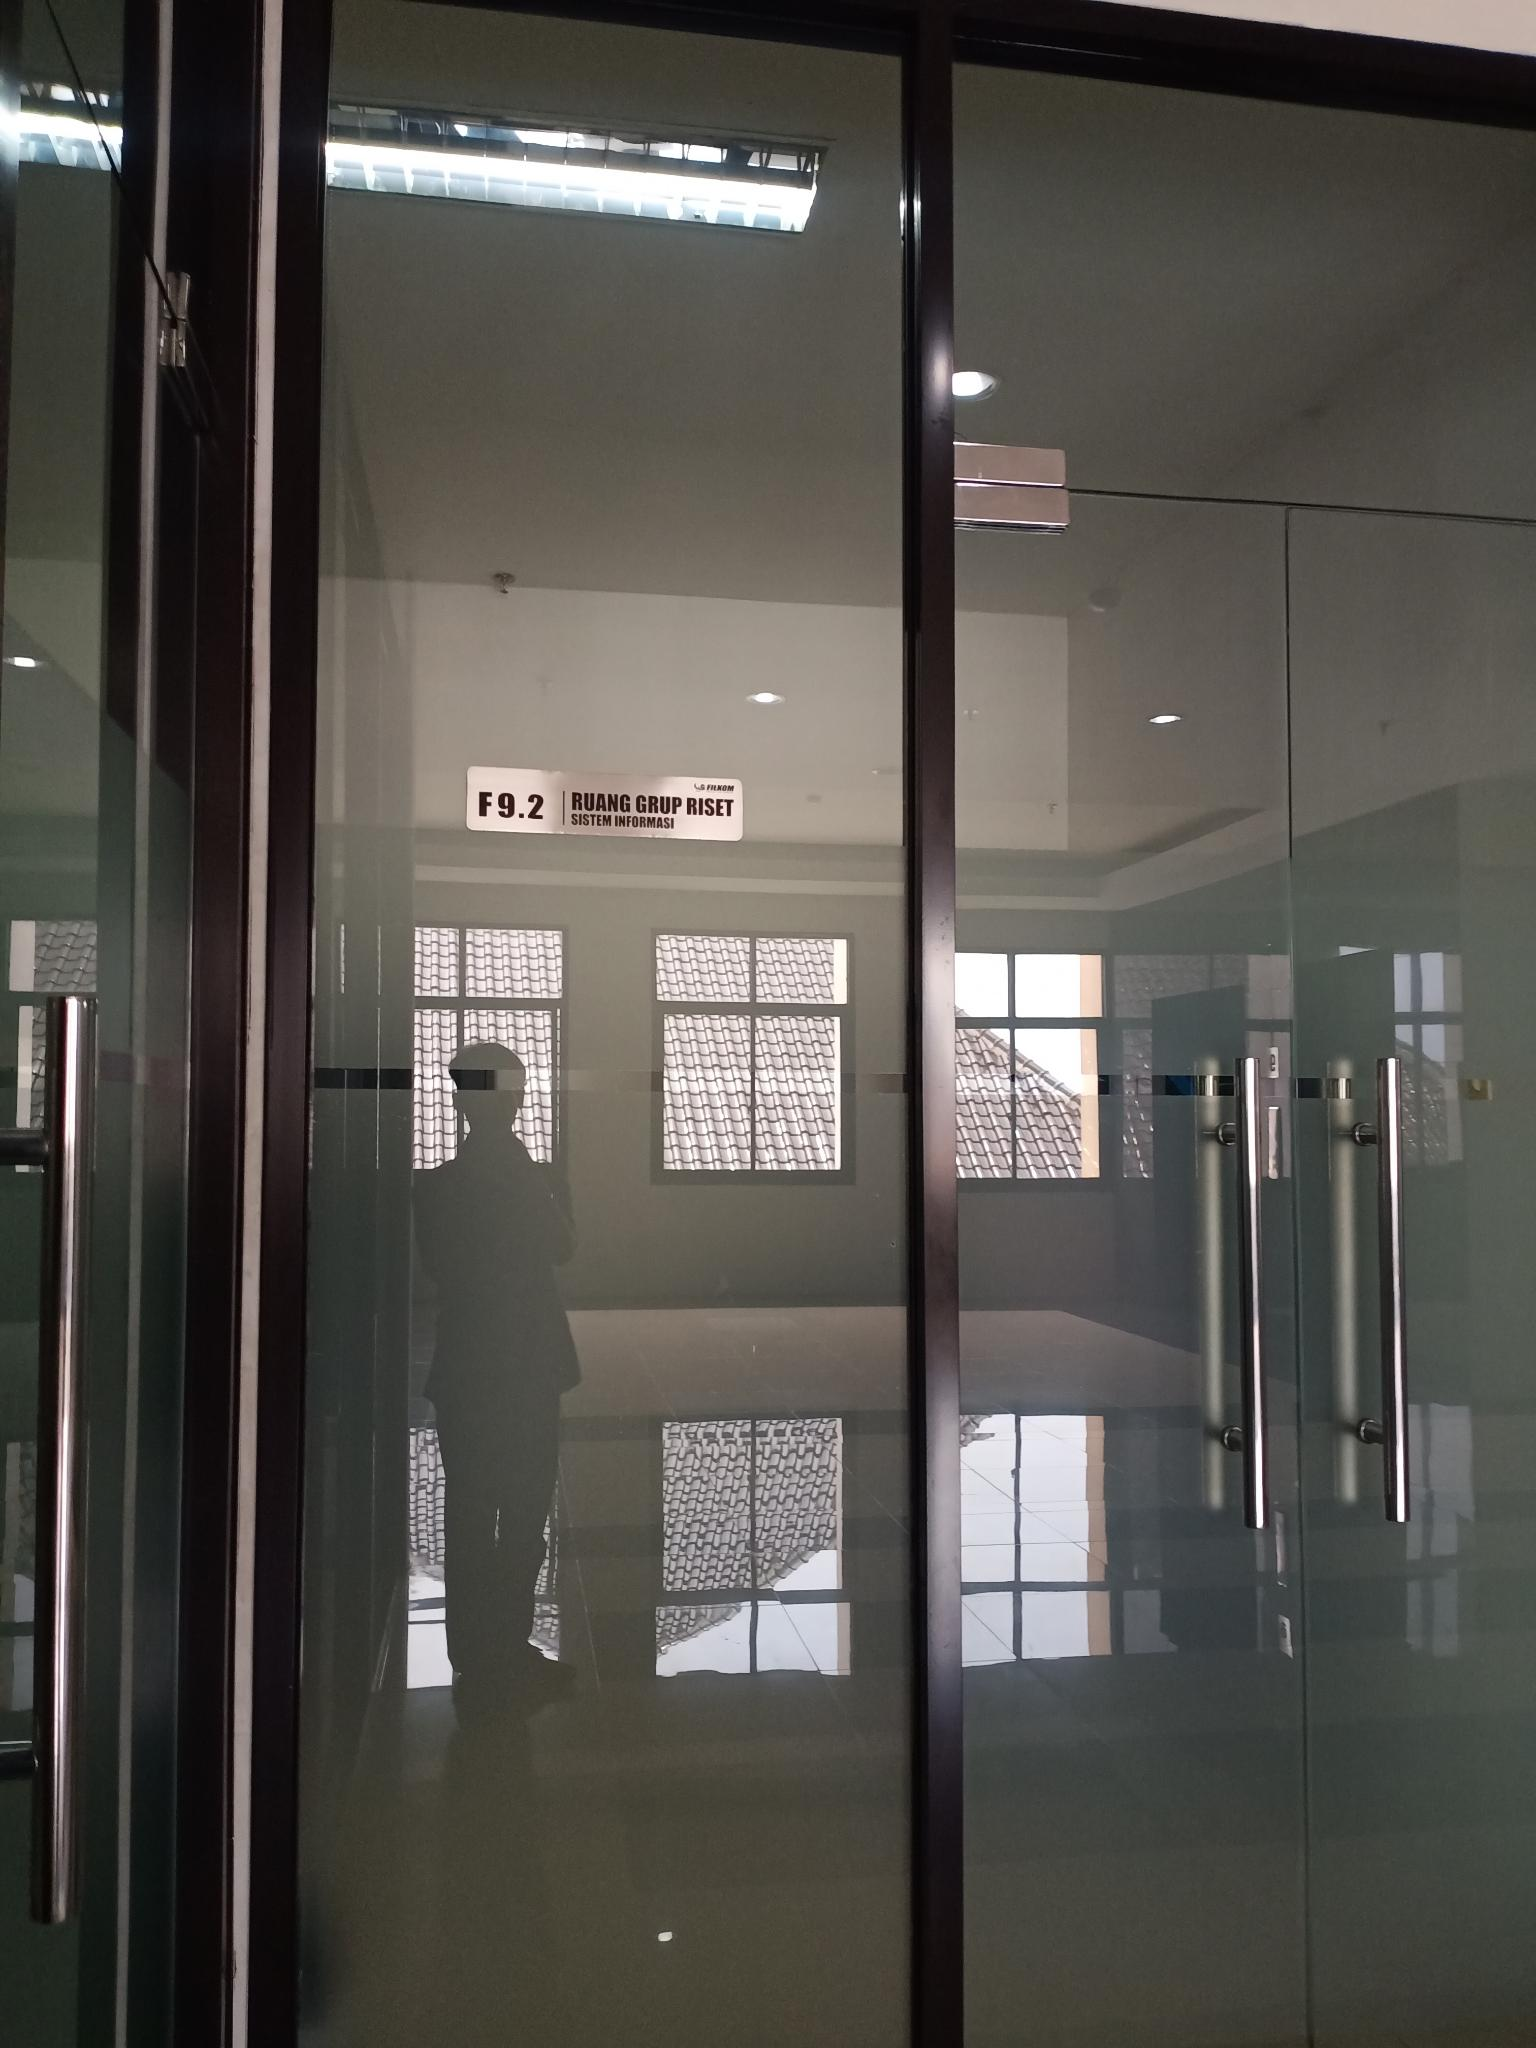plate: (460, 763, 749, 845)
